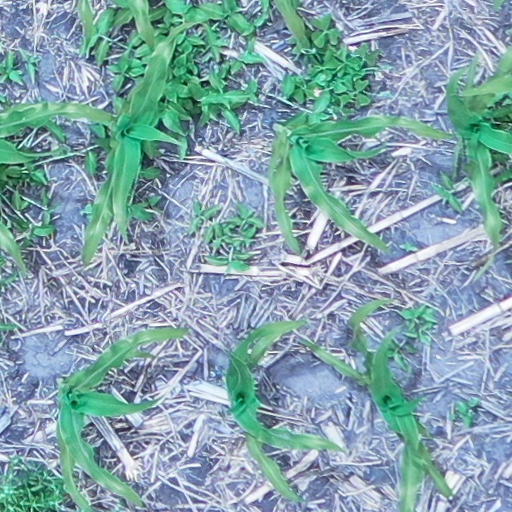planta: (75, 14, 209, 270), (300, 294, 457, 510), (260, 109, 459, 260), (50, 321, 193, 511), (220, 312, 345, 506)
